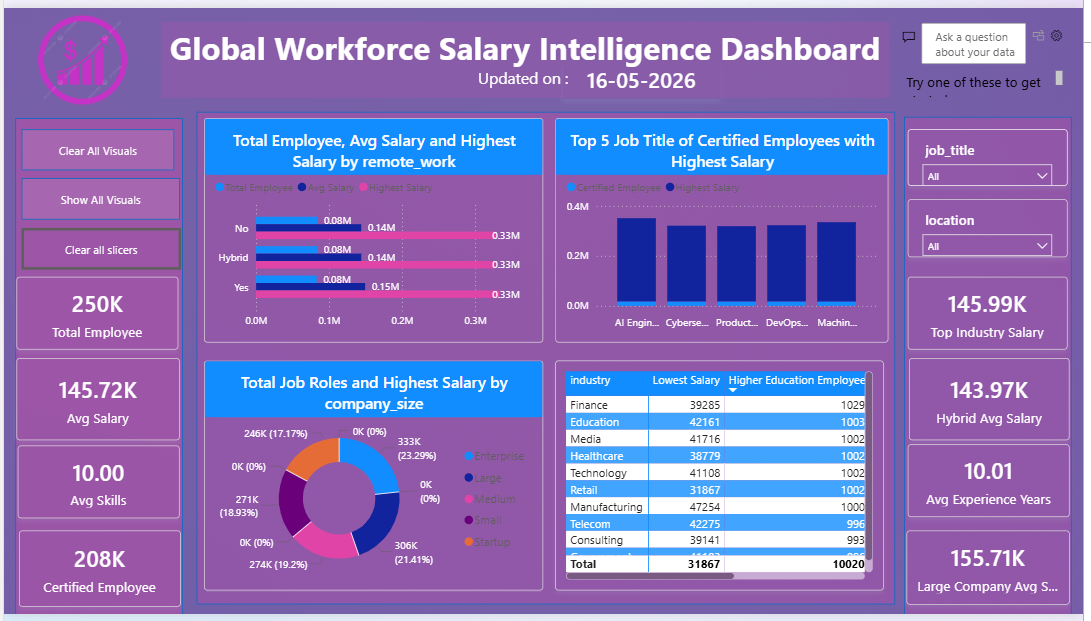

The dashboard page shown, as its layout file describes it:
{"tool":"powerbi","page":{"name":"Page 1","canvas":[1280,720],"ordinal":0},"visuals":[{"type":"shape","box":[13.7,130.4,199,590.1],"z":0},{"type":"textbox","box":[186.8,16.3,863,90.5],"z":1000},{"type":"shape","box":[1067.6,129,199,591.4],"z":2000},{"type":"card","fields":{"Values":["My Dax Function.Avg Experience Years"]},"box":[1071.7,517.3,192.1,86.4],"z":3000},{"type":"card","fields":{"Values":["My Dax Function.Hybrid Avg Salary"]},"box":[1073.1,415.8,190.7,97.4],"z":4000},{"type":"card","fields":{"Values":["My Dax Function.Avg Skills"]},"box":[16.5,518.7,192.1,86.4],"z":5000},{"type":"card","fields":{"Values":["My Dax Function.Large Company Avg Salary"]},"box":[1070.3,620.2,193.5,87.8],"z":6000},{"type":"card","fields":{"Values":["My Dax Function.Certified Employee"]},"box":[18.1,620.1,191.8,90.5],"z":7000},{"type":"card","fields":{"Values":["My Dax Function.Avg Salary"]},"box":[15.1,415.8,193.5,97.4],"z":8000},{"type":"shape","box":[227.8,123.5,828.8,584.6],"z":9000},{"type":"clusteredBarChart","fields":{"Category":["Job Salary.remote_work"],"Y":["My Dax Function.Total Employee","My Dax Function.Avg Salary","My Dax Function.Highest Salary"]},"box":[237.4,130.4,402.1,266.2],"z":10000},{"type":"columnChart","title":"Top 5 Job Title of Certified Employees with Highest Salary","fields":{"Y":["My Dax Function.Certified Employee","My Dax Function.Highest Salary"],"Category":["Job Salary.job_title"]},"box":[654.5,130.4,395.2,266.2],"z":11000},{"type":"donutChart","fields":{"Category":["Job Salary.company_size"],"Y":["My Dax Function.Total Job Roles","My Dax Function.Highest Salary"]},"box":[237.4,418.5,402.1,273.1],"z":12000},{"type":"pivotTable","fields":{"Rows":["Job Salary.industry"],"Values":["My Dax Function.Lowest Salary","My Dax Function.Higher Education Employees","My Dax Function.Remote Avg Salary","My Dax Function.Avg Skills"]},"box":[654.5,418.5,389.7,273.1],"z":13000},{"type":"image","box":[15.1,9.6,156.4,105.7],"z":14000},{"type":"card","fields":{"Values":["My Dax Function.Top Industry Salary"]},"box":[1071.7,318.4,189.4,86.4],"z":15000},{"type":"slicer","fields":{"Values":["Job Salary.location"]},"box":[1071.7,226.4,189.4,68.6],"z":16000},{"type":"slicer","fields":{"Values":["Job Salary.job_title"]},"box":[1071.7,144.1,189.4,67.2],"z":17000},{"type":"card","fields":{"Values":["My Dax Function.Updated on :"]},"box":[662.8,65.2,186.8,43],"z":18000},{"type":"textbox","box":[548.7,65.2,139.4,41.5],"z":19000},{"type":"actionButton","box":[20.6,260.7,189.4,49.4],"z":20000},{"type":"qnaVisual","box":[1056.6,9.6,207.2,105.7],"z":21000},{"type":"card","fields":{"Values":["My Dax Function.Total Employee"]},"box":[15.1,318.4,192.1,86.4],"z":22000},{"type":"shape","box":[20.6,201.7,188,49.4],"z":23000},{"type":"shape","title":"Clear All Visuals","box":[20.9,143.6,181.3,48.8],"z":24000}]}

Visuals, with their boxes on the page's 1280x720 design canvas (x1, y1, x2, y2). These are canvas units, not pixel positions in the 1091x621 screenshot, which may show the page scaled, cropped or inside an application window:
shape: bbox=(14, 130, 213, 720)
textbox: bbox=(187, 16, 1050, 107)
shape: bbox=(1068, 129, 1267, 720)
card - My Dax Function.Avg Experience Years: bbox=(1072, 517, 1264, 604)
card - My Dax Function.Hybrid Avg Salary: bbox=(1073, 416, 1264, 513)
card - My Dax Function.Avg Skills: bbox=(16, 519, 209, 605)
card - My Dax Function.Large Company Avg Salary: bbox=(1070, 620, 1264, 708)
card - My Dax Function.Certified Employee: bbox=(18, 620, 210, 711)
card - My Dax Function.Avg Salary: bbox=(15, 416, 209, 513)
shape: bbox=(228, 124, 1057, 708)
clusteredBarChart - Job Salary.remote_work x My Dax Function.Total Employee: bbox=(237, 130, 640, 397)
"Top 5 Job Title of Certified Employees with Highest Salary" columnChart: bbox=(654, 130, 1050, 397)
donutChart - Job Salary.company_size x My Dax Function.Total Job Roles: bbox=(237, 418, 640, 692)
pivotTable - Job Salary.industry x My Dax Function.Lowest Salary: bbox=(654, 418, 1044, 692)
image: bbox=(15, 10, 172, 115)
card - My Dax Function.Top Industry Salary: bbox=(1072, 318, 1261, 405)
slicer - Job Salary.location: bbox=(1072, 226, 1261, 295)
slicer - Job Salary.job_title: bbox=(1072, 144, 1261, 211)
card - My Dax Function.Updated on :: bbox=(663, 65, 850, 108)
textbox: bbox=(549, 65, 688, 107)
actionButton: bbox=(21, 261, 210, 310)
qnaVisual: bbox=(1057, 10, 1264, 115)
card - My Dax Function.Total Employee: bbox=(15, 318, 207, 405)
shape: bbox=(21, 202, 209, 251)
"Clear All Visuals" shape: bbox=(21, 144, 202, 192)
